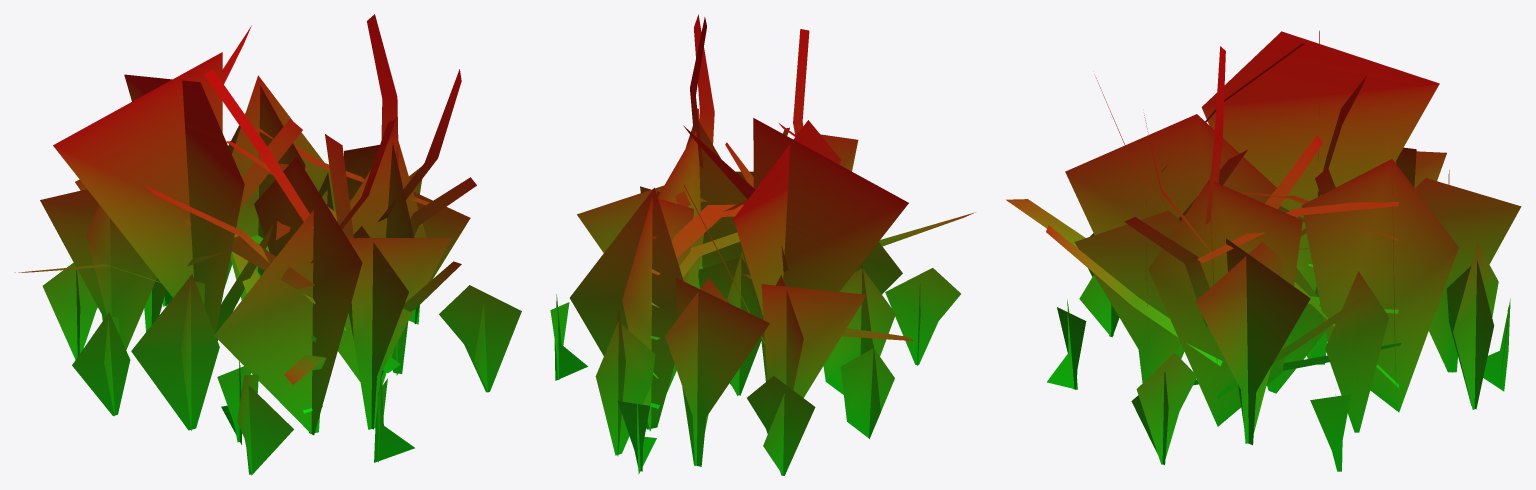
The model's file is Var4_LOD2.fbx.
3 views of the same model, side by side, from view 1: azimuth 30°, elevation 25°; view 2: azimuth 150°, elevation 25°; view 3: azimuth 270°, elevation 25° (orthographic). The views are drawn at different scales.
Visible parts, largest first — view 1: _8owm_Var4_LOD2; view 2: _8owm_Var4_LOD2; view 3: _8owm_Var4_LOD2.
Part boxes in pixels (left/top/right/bottom): _8owm_Var4_LOD2: left=14, top=14, right=521, bottom=475; _8owm_Var4_LOD2: left=550, top=14, right=975, bottom=475; _8owm_Var4_LOD2: left=1006, top=30, right=1521, bottom=471.
Bounding box in the file's own units: 22.29 × 20.33 × 24.88.
